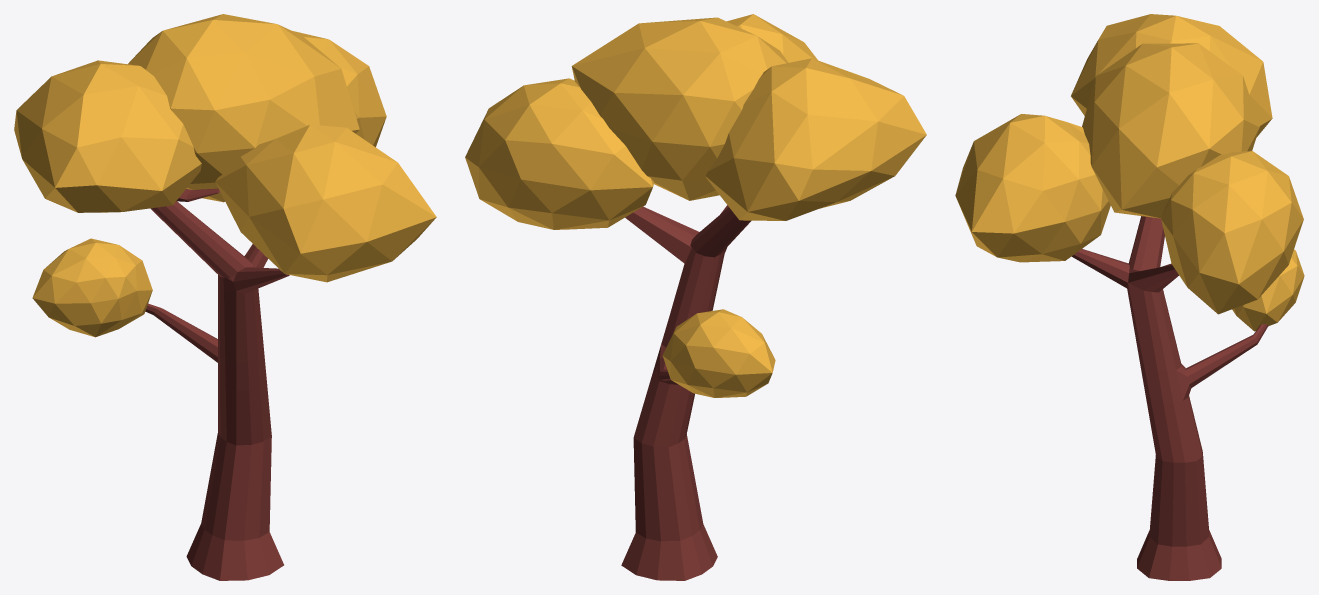
Rendered from tree_brown.fbx.
3 renders of one model, left to right at view 1: azimuth 30°, elevation 25°; view 2: azimuth 150°, elevation 25°; view 3: azimuth 270°, elevation 25°, orthographic. The views are drawn at different scales.
Visible parts, largest first — view 1: Cube; view 2: Cube; view 3: Cube.
Boxes of the visible parts, x1,y1,x2,y2 form: Cube: (14, 14, 436, 580); Cube: (465, 14, 926, 580); Cube: (955, 14, 1304, 580).
Size of the model in its own units: 2071 by 2480 by 3302.
